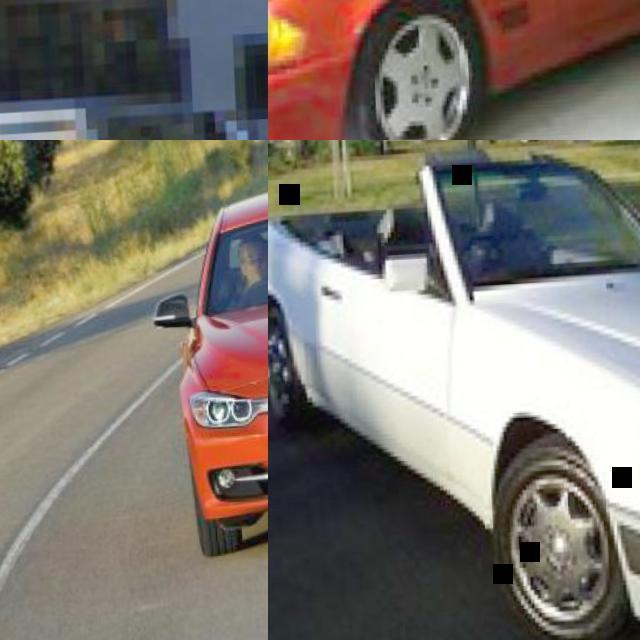car: (266, 150, 637, 634), (343, 7, 475, 138)
